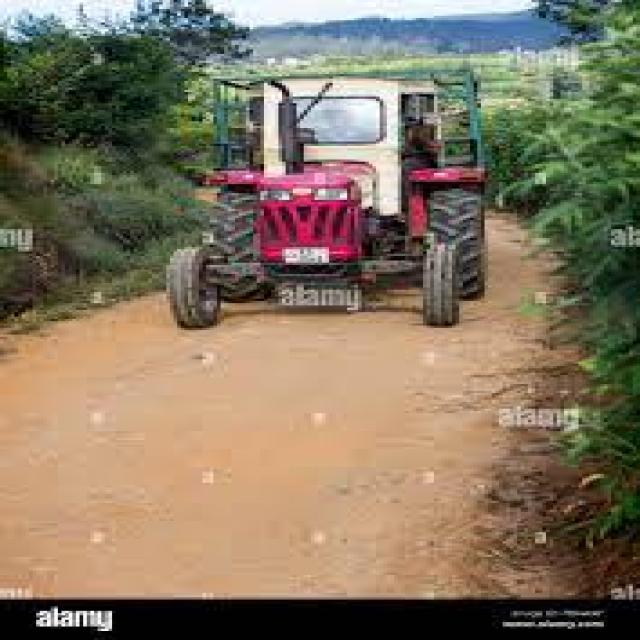tractor: (166, 70, 485, 326)
